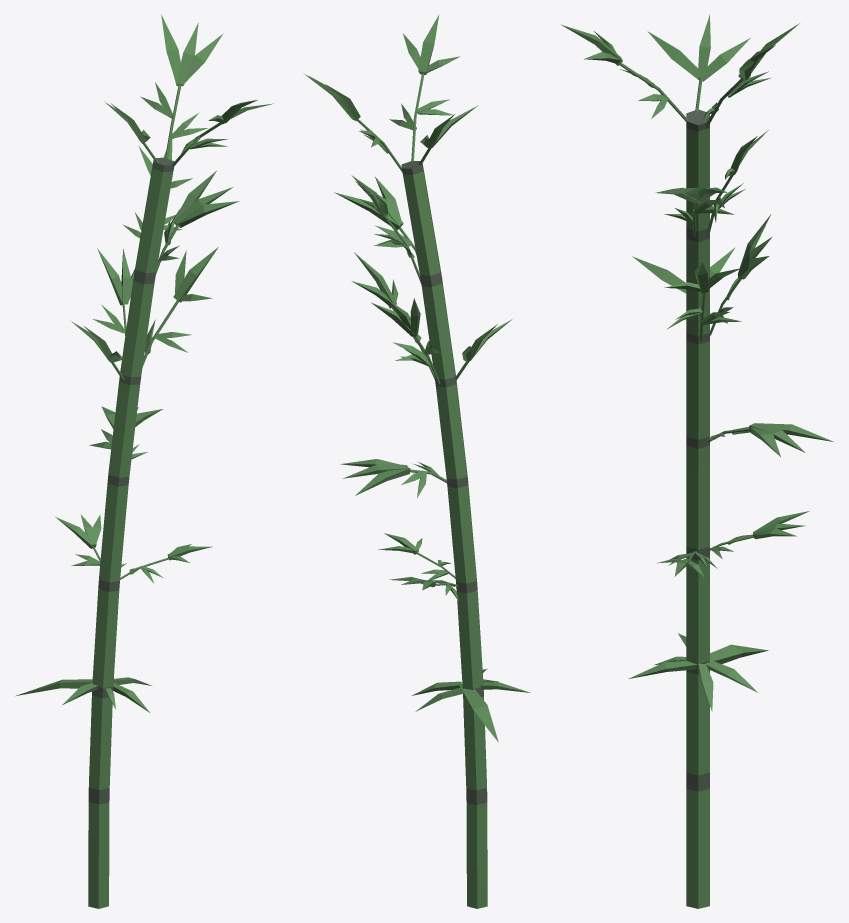
3 renders of one model, left to right at view 1: azimuth 30°, elevation 25°; view 2: azimuth 150°, elevation 25°; view 3: azimuth 270°, elevation 25°, orthographic. The views are drawn at different scales.
Parts seen in each view (by area): view 1: bamboo4; view 2: bamboo4; view 3: bamboo4.
Part boxes in pixels (bbox=[...]): bamboo4: bbox=[16, 14, 273, 908]; bamboo4: bbox=[303, 14, 530, 908]; bamboo4: bbox=[561, 14, 833, 908].
Size of the model in its own units: 89.09 by 348 by 92.19.
